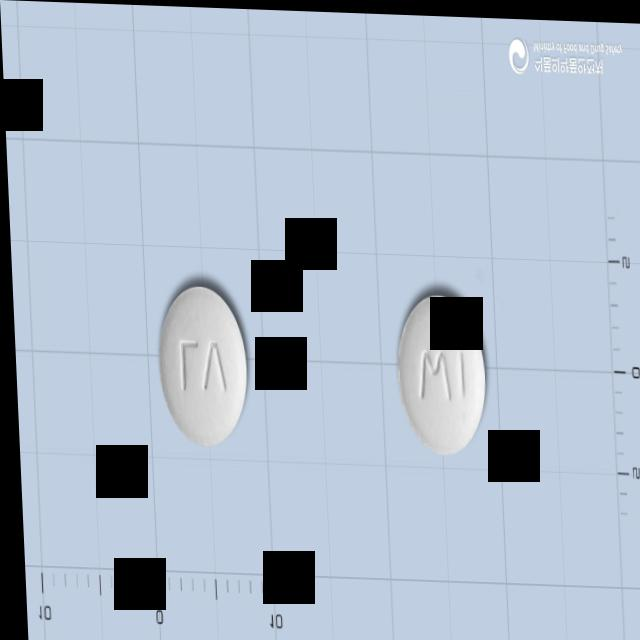Whanin Levofloxacin Tab: (391, 289, 487, 454), (154, 283, 248, 449)
